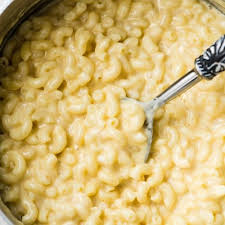macncheese: (12, 14, 203, 212)
